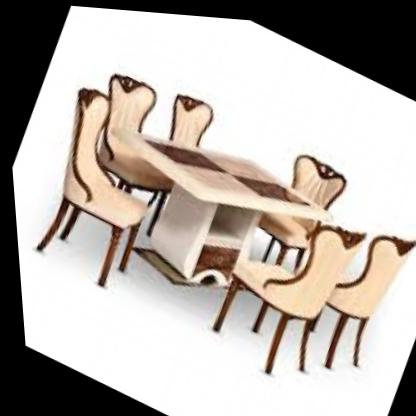Dining Table: (4, 62, 416, 399)
